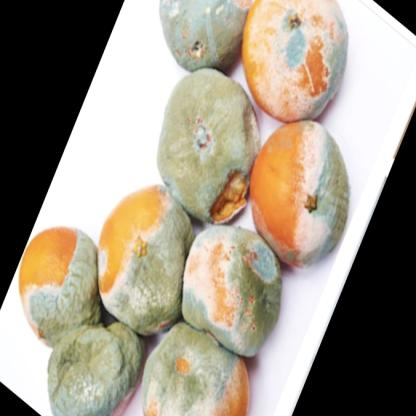rotten: (15, 1, 351, 416)
